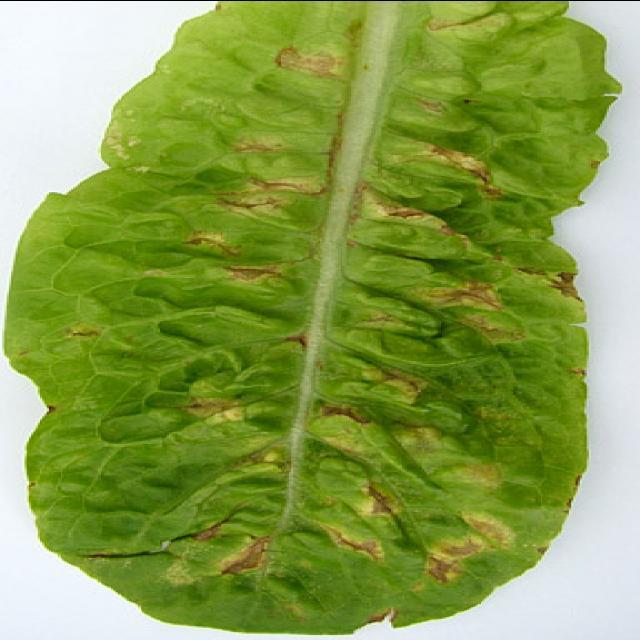Lettuce: (8, 0, 621, 634)
